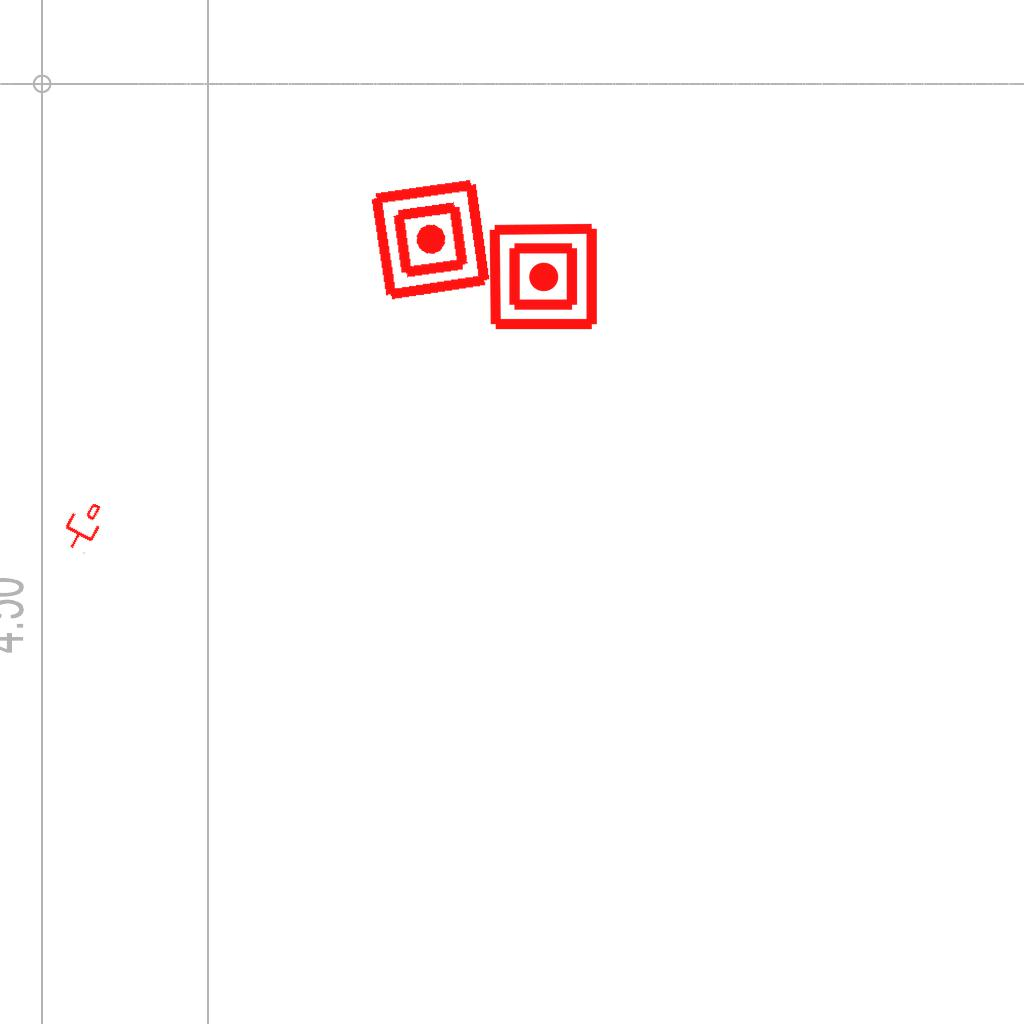Datenanschluss_einfach: (56, 495, 110, 557)
NAM-Nichtautomatischer_Melder: (366, 175, 495, 304), (487, 220, 600, 333)
